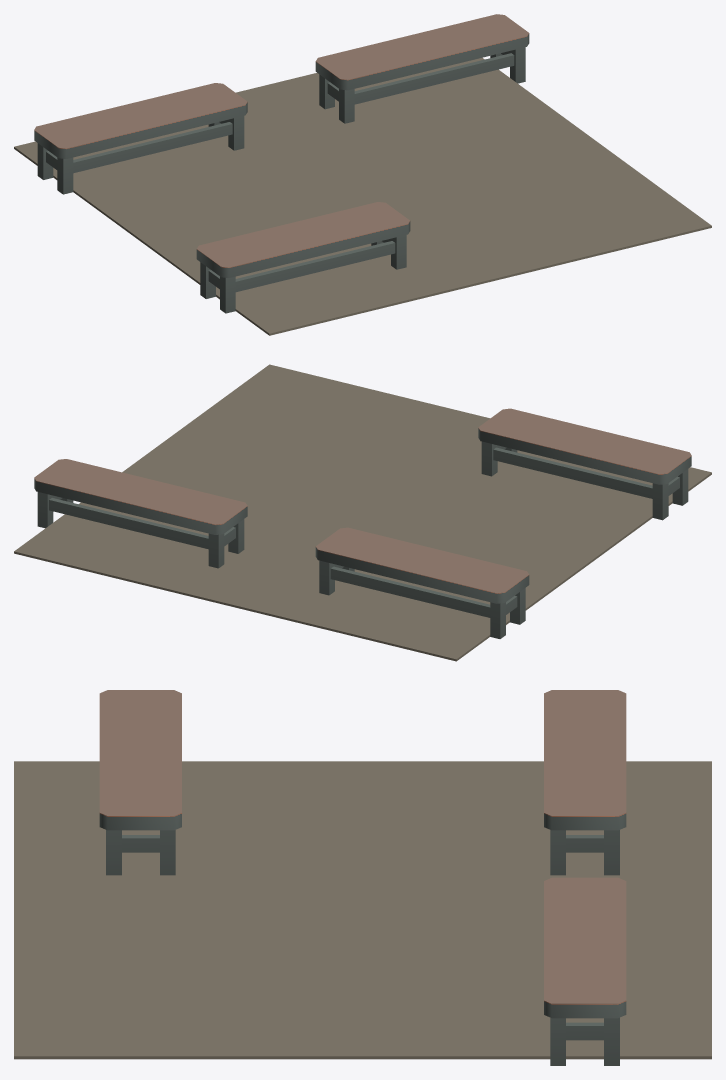
Rendered from facility-plaza.glb.
3 views of the same model, one above another, from view 1: azimuth 30°, elevation 25°; view 2: azimuth 150°, elevation 25°; view 3: azimuth 270°, elevation 25° (orthographic). The views are drawn at different scales.
Visible parts, largest first — view 1: Original box, stall-bench (×3); view 2: Original box, stall-bench (×3); view 3: Original box, stall-bench (×3).
Boxes of the visible parts, left/top/right/bottom form: Original box: left=14, top=57, right=711, bottom=335; stall-bench (×3): left=34, top=14, right=529, bottom=313; Original box: left=14, top=364, right=711, bottom=661; stall-bench (×3): left=34, top=408, right=691, bottom=638; Original box: left=14, top=761, right=711, bottom=1059; stall-bench (×3): left=99, top=690, right=626, bottom=1065.
Size of the model in its own units: 2.34 by 0.2255 by 2.2.
Materials: 2 (1 with a texture image).
